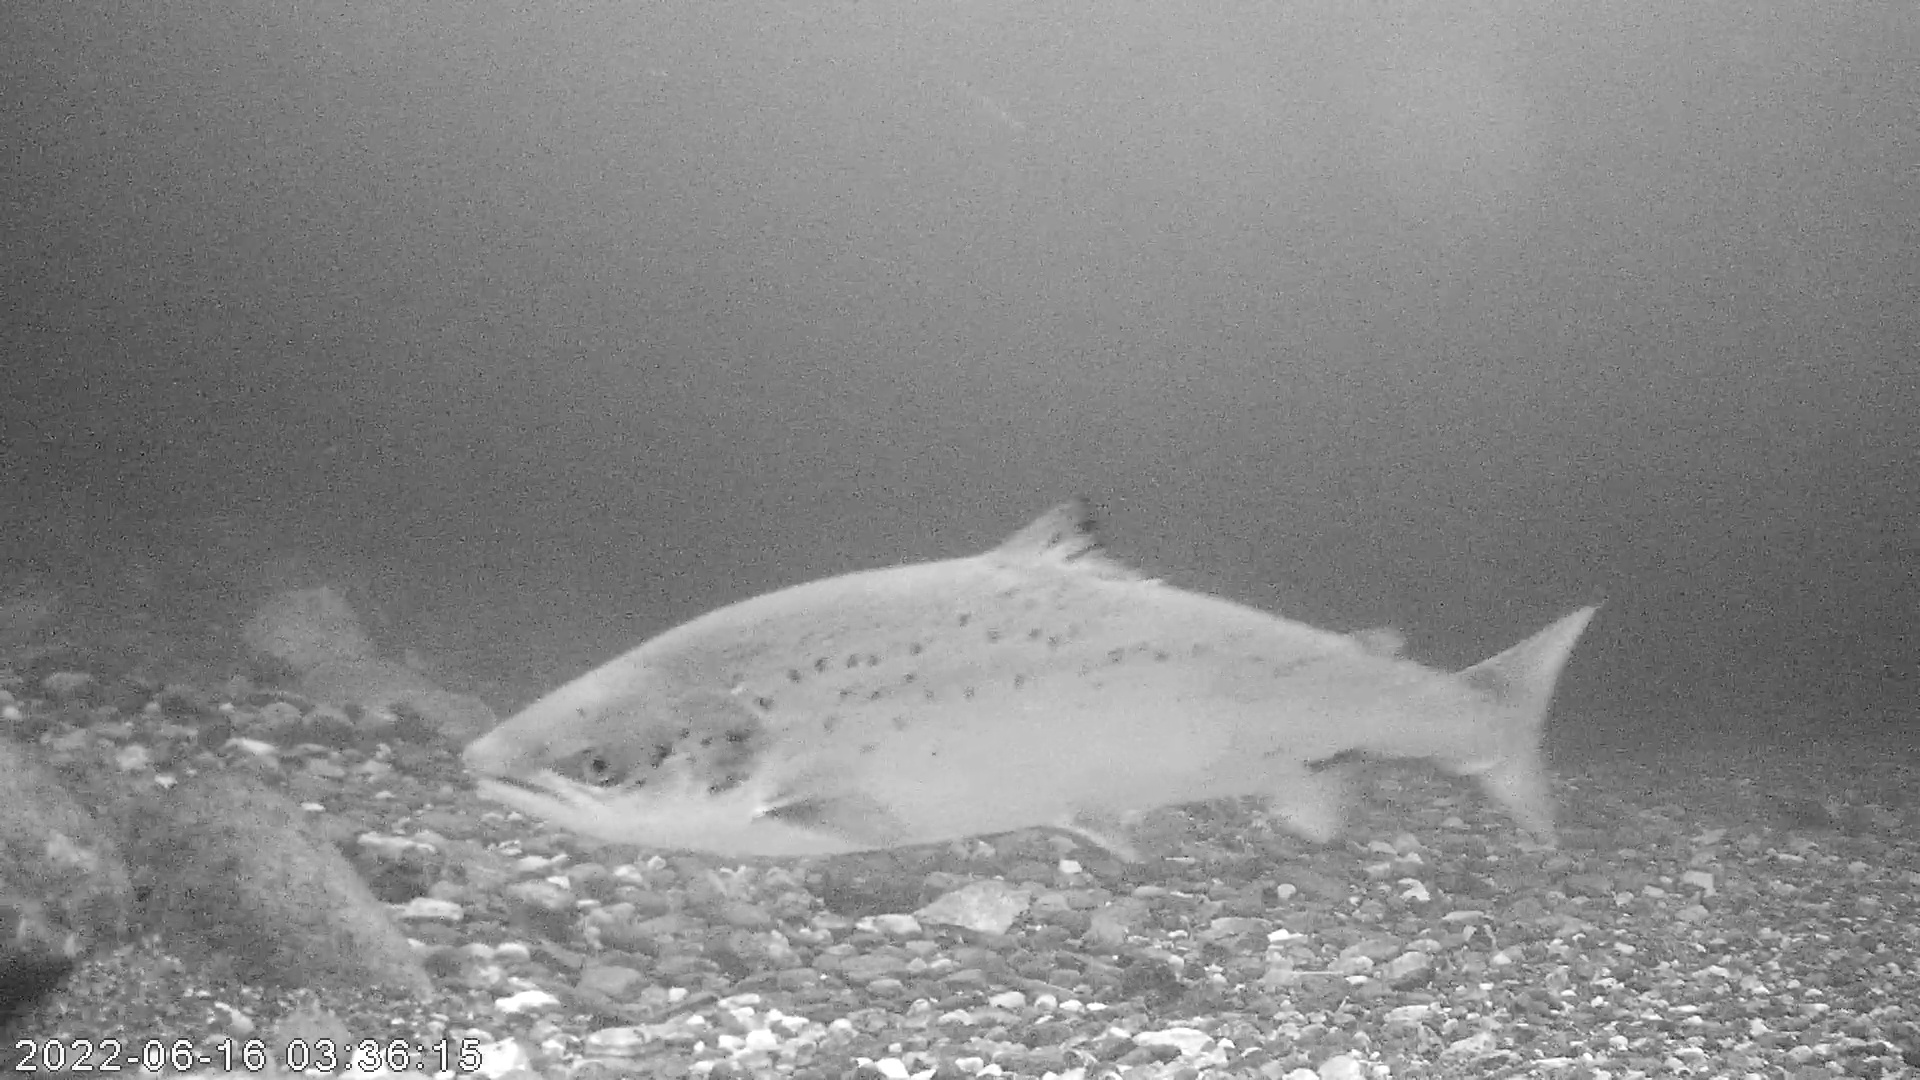salmon: (454, 493, 1605, 862)
